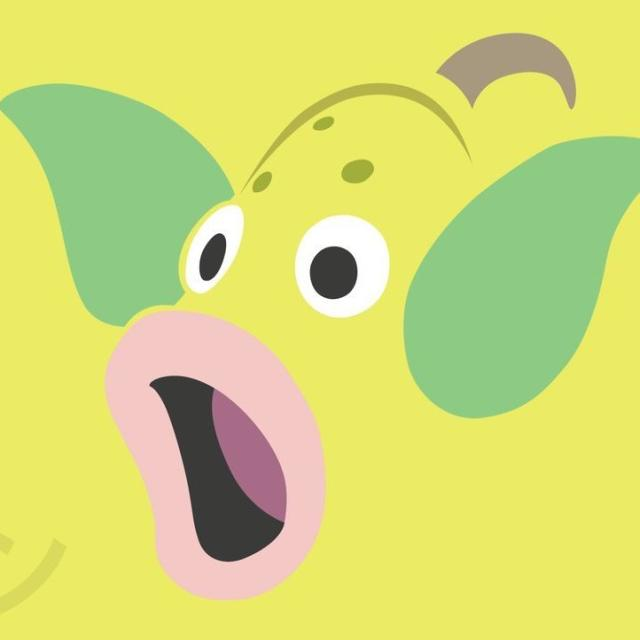Weepinbell: (90, 1, 550, 578)
